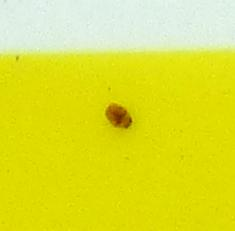Coleoptera: (100, 100, 135, 131)
